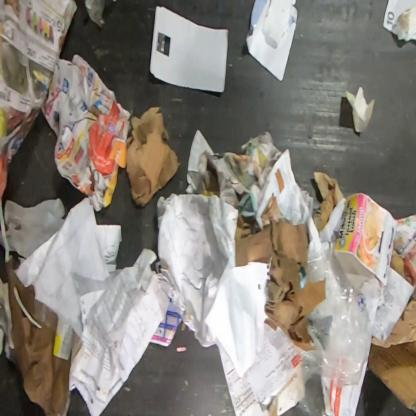cardboard: (235, 214, 324, 351), (367, 287, 415, 415), (335, 192, 399, 287), (125, 107, 181, 208), (312, 171, 344, 234)
soft_plastic: (294, 237, 380, 415)
